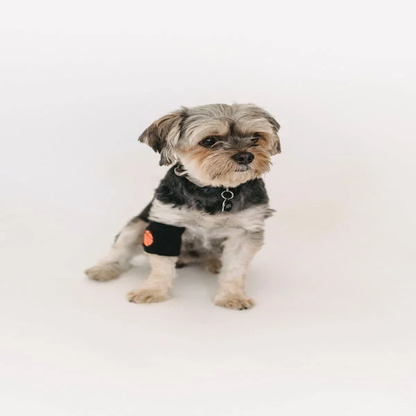yorkshire: (81, 101, 284, 309)
